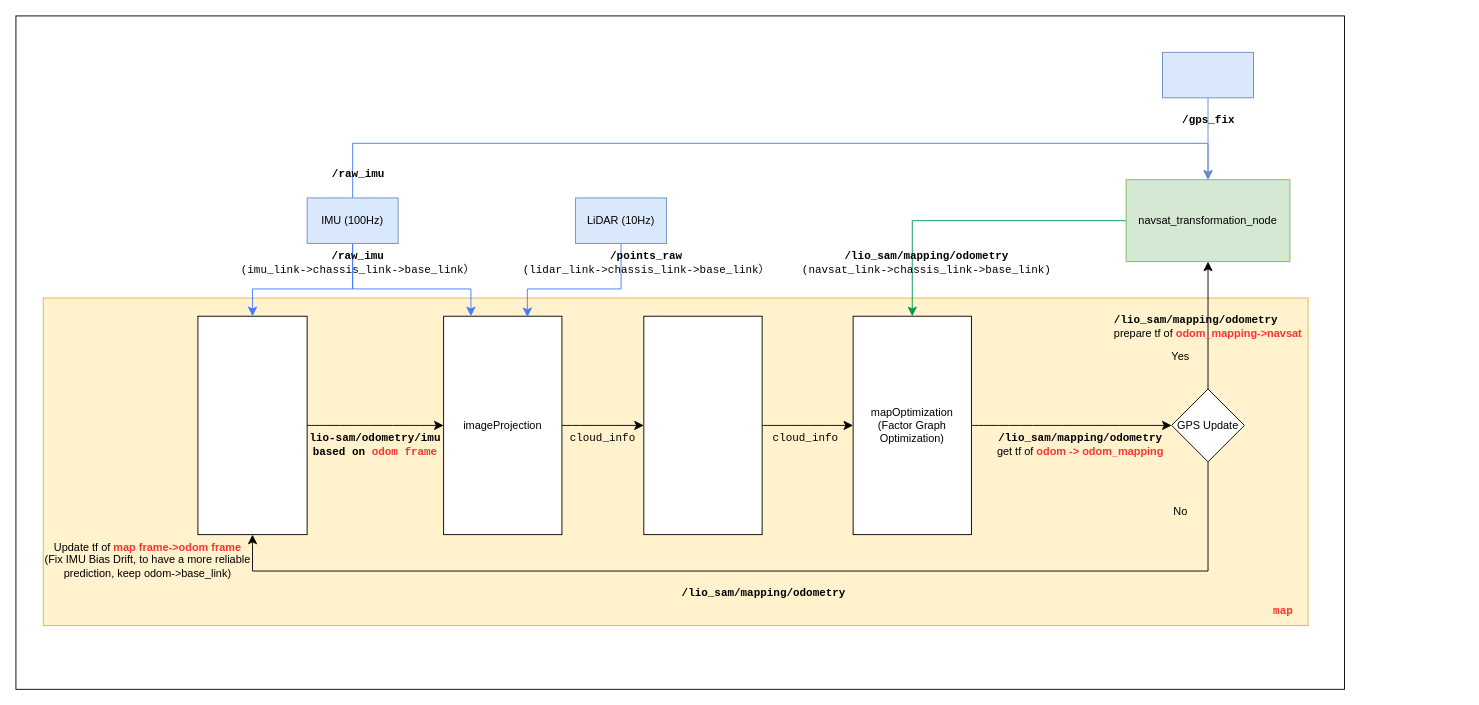
Image size: 1479x705. Some labels were removed from this diagram. Here are the shapes that lost their labels. From the top down, the centre of each, then its label:
(x=1208, y=74): GPS (10Hz)
(x=252, y=425): imuPreintegration (Predict)
(x=702, y=425): featureExtraction
